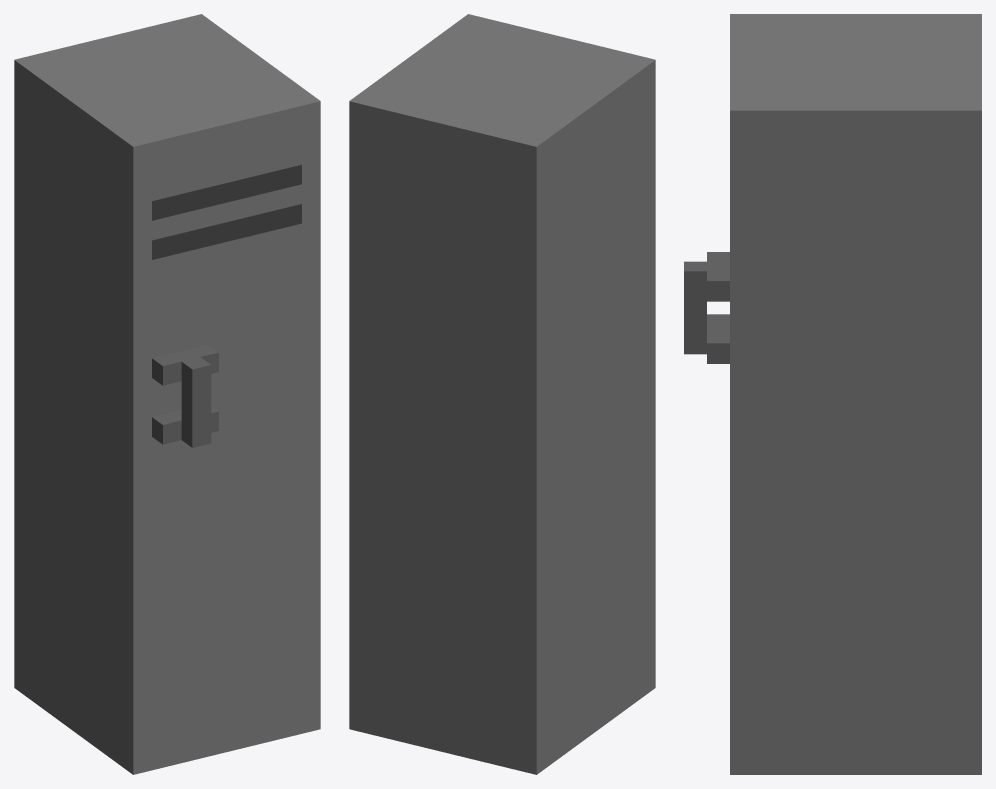
File: Case_With_close_door.obj
3 views of the same model, side by side, from view 1: azimuth 30°, elevation 25°; view 2: azimuth 150°, elevation 25°; view 3: azimuth 270°, elevation 25° (orthographic). The views are drawn at different scales.
Bounding box in the file's own units: 1 × 3.2 × 1.3.
